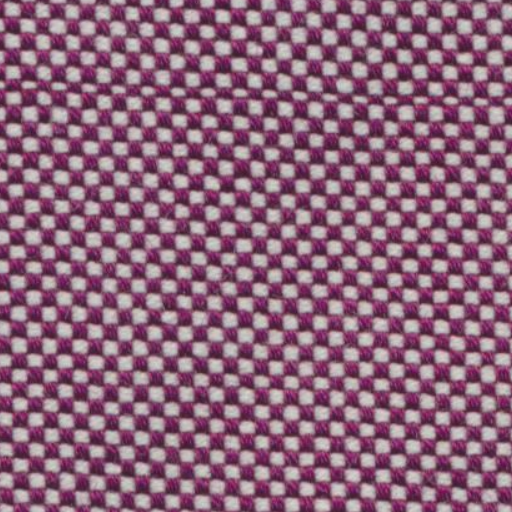TuoSha: (13, 52, 497, 134)
